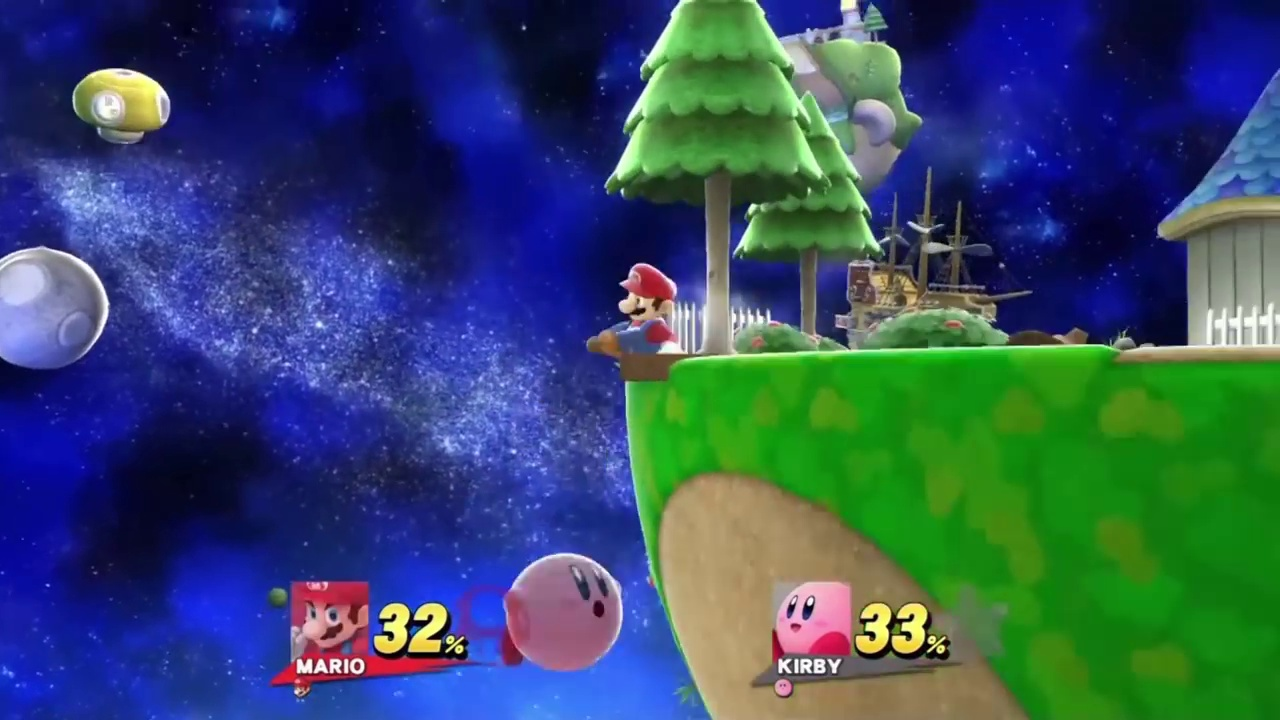Mario: (586, 261, 682, 354)
